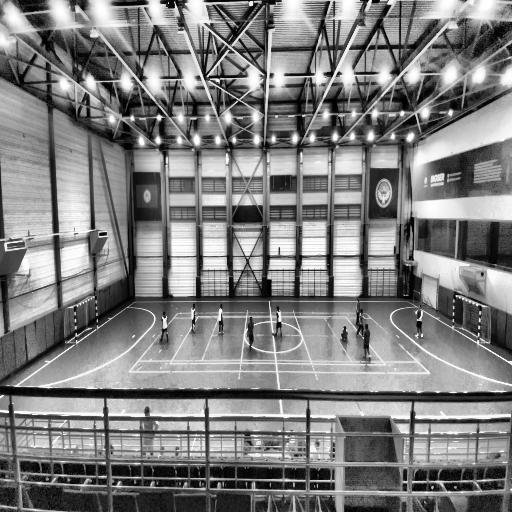ball: (272, 332, 274, 336)
player: (414, 304, 424, 340), (246, 315, 255, 354), (363, 324, 372, 362), (159, 310, 169, 344), (273, 306, 283, 340), (357, 308, 366, 338), (217, 303, 224, 337), (191, 303, 197, 334), (356, 297, 362, 326), (340, 326, 348, 342)
